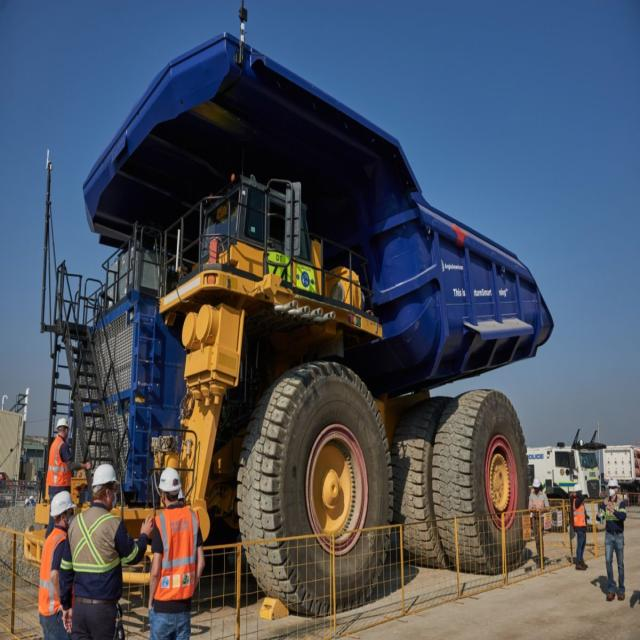dump_truck: (53, 31, 552, 626)
